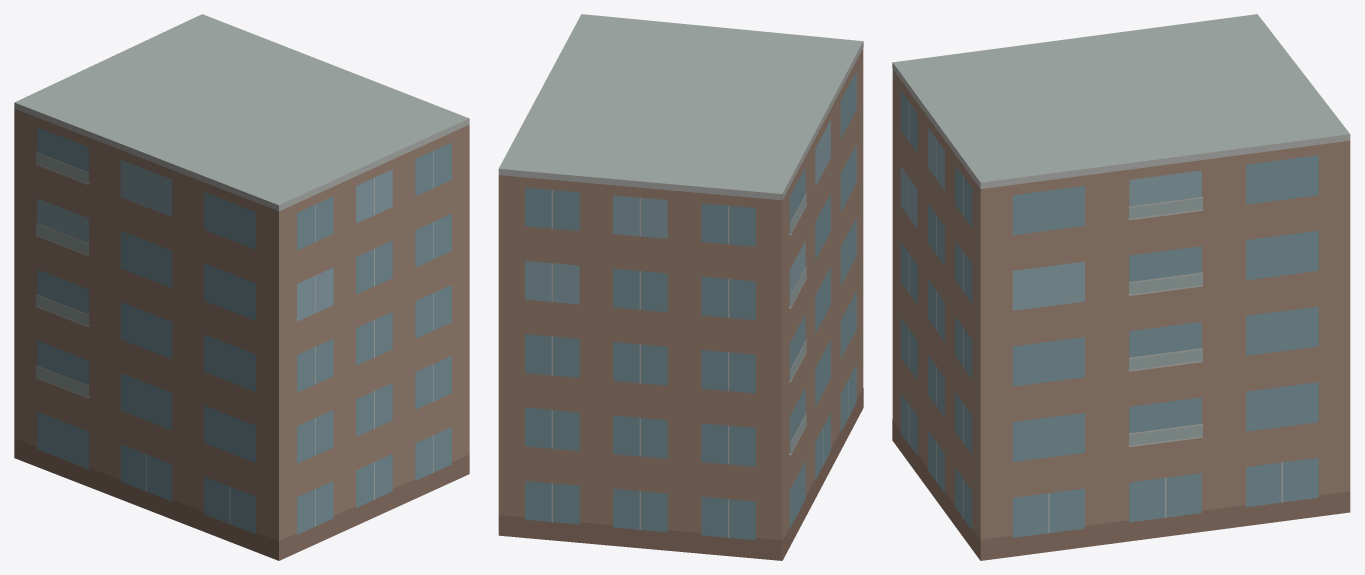
Rendered from survey-upis-32697619.glb.
3 renders of one model, left to right at view 1: azimuth 30°, elevation 25°; view 2: azimuth 150°, elevation 25°; view 3: azimuth 270°, elevation 25°, orthographic. The views are drawn at different scales.
Visible parts, largest first — view 1: survey-upis-32697619.tmp; view 2: survey-upis-32697619.tmp; view 3: survey-upis-32697619.tmp.
Part boxes in pixels (x1,y1,x2,y2): survey-upis-32697619.tmp: (14, 14, 469, 560); survey-upis-32697619.tmp: (498, 14, 863, 560); survey-upis-32697619.tmp: (892, 14, 1350, 560).
Bounding box in the file's own units: 13.69 × 14.3 × 15.7.
